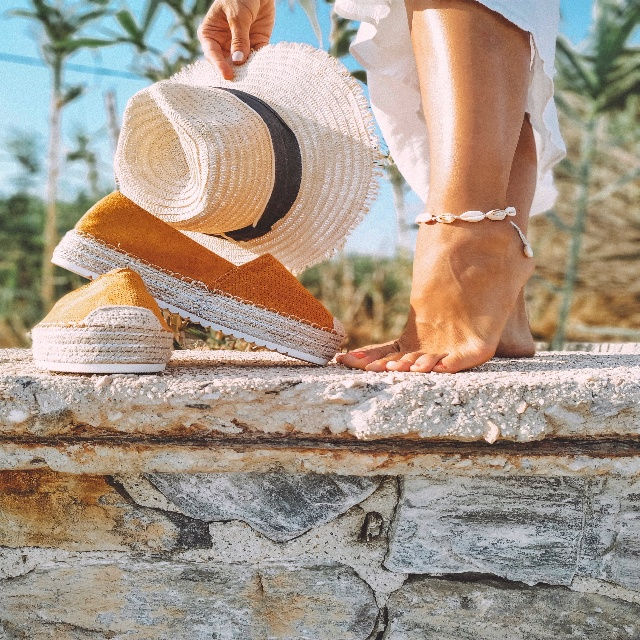Sin_guantes: (196, 0, 276, 81)
